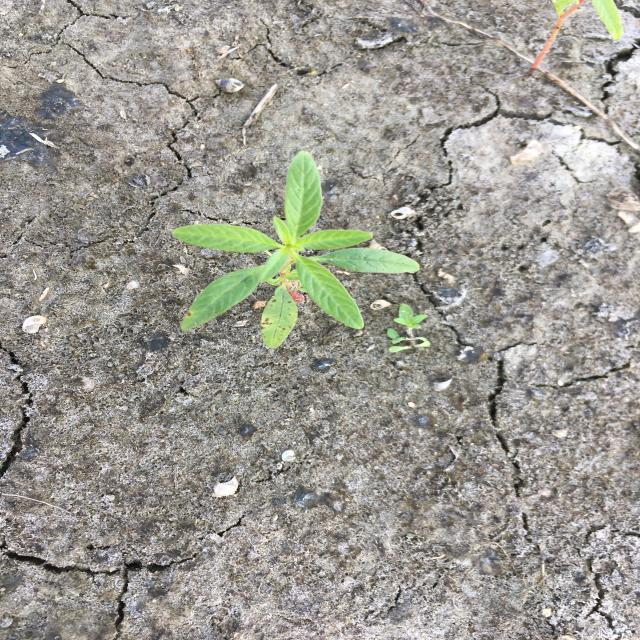Waterhemp: (169, 147, 423, 354)
